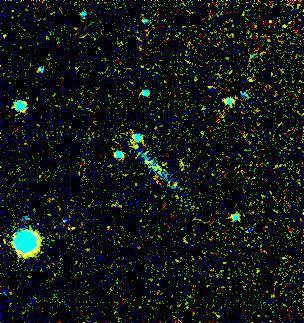star: (121, 131, 151, 161)
